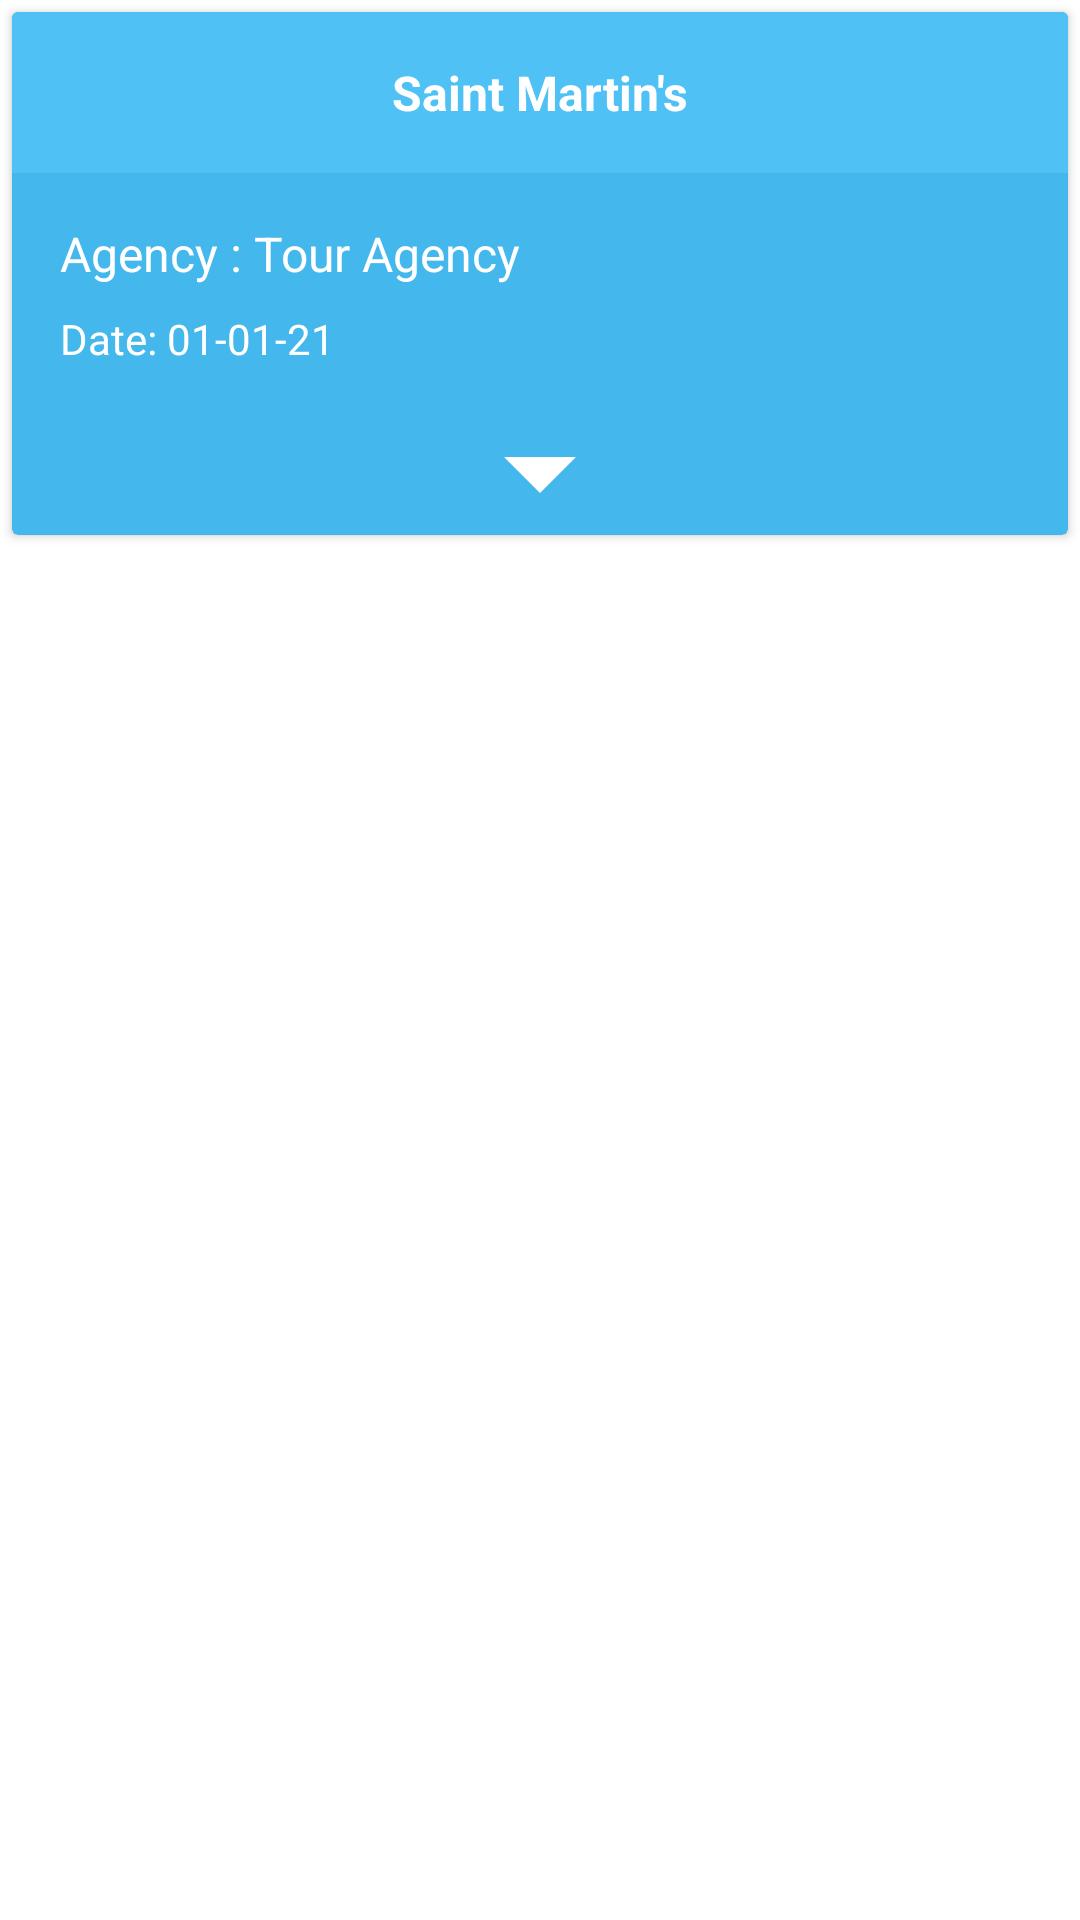

Icon click points for this 1080px×1920px phone screenshot, format point (x, y):
down arrow: point (540, 475)
